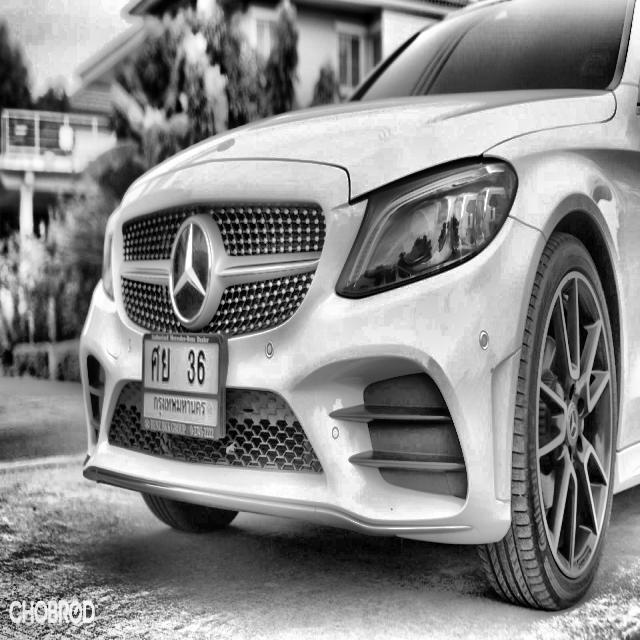license-plate: (138, 325, 231, 447)
